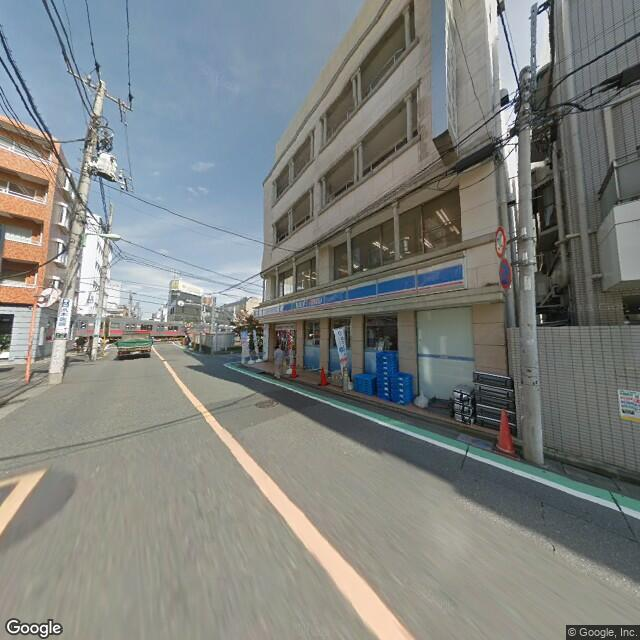lawson: (254, 255, 469, 322)
